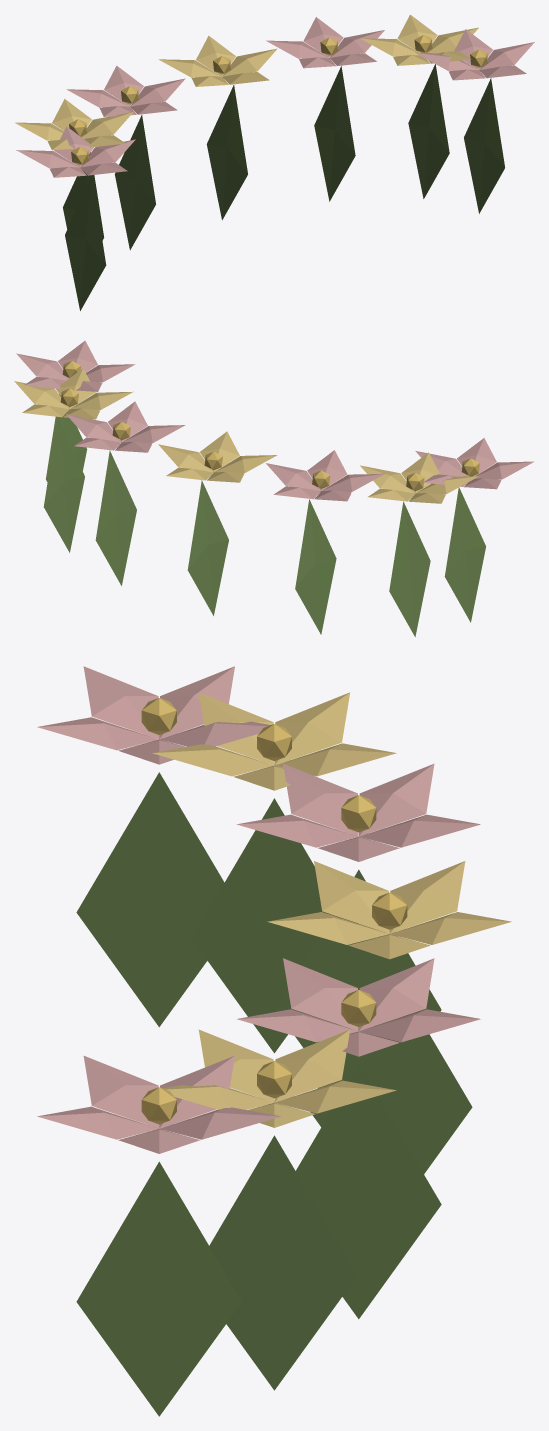
The model's file is map-exclusive-v3__meadow_08.glb.
3 views of the same model, one above another, from view 1: azimuth 30°, elevation 25°; view 2: azimuth 150°, elevation 25°; view 3: azimuth 270°, elevation 25° (orthographic). The views are drawn at different scales.
Parts seen in each view (by area): view 1: meadow_08; view 2: meadow_08; view 3: meadow_08.
Part boxes in pixels (bbox=[...]): meadow_08: bbox=[15, 14, 534, 310]; meadow_08: bbox=[14, 340, 534, 636]; meadow_08: bbox=[37, 666, 511, 1416].
Bounding box in the file's own units: 2.51 × 0.7898 × 1.03.
